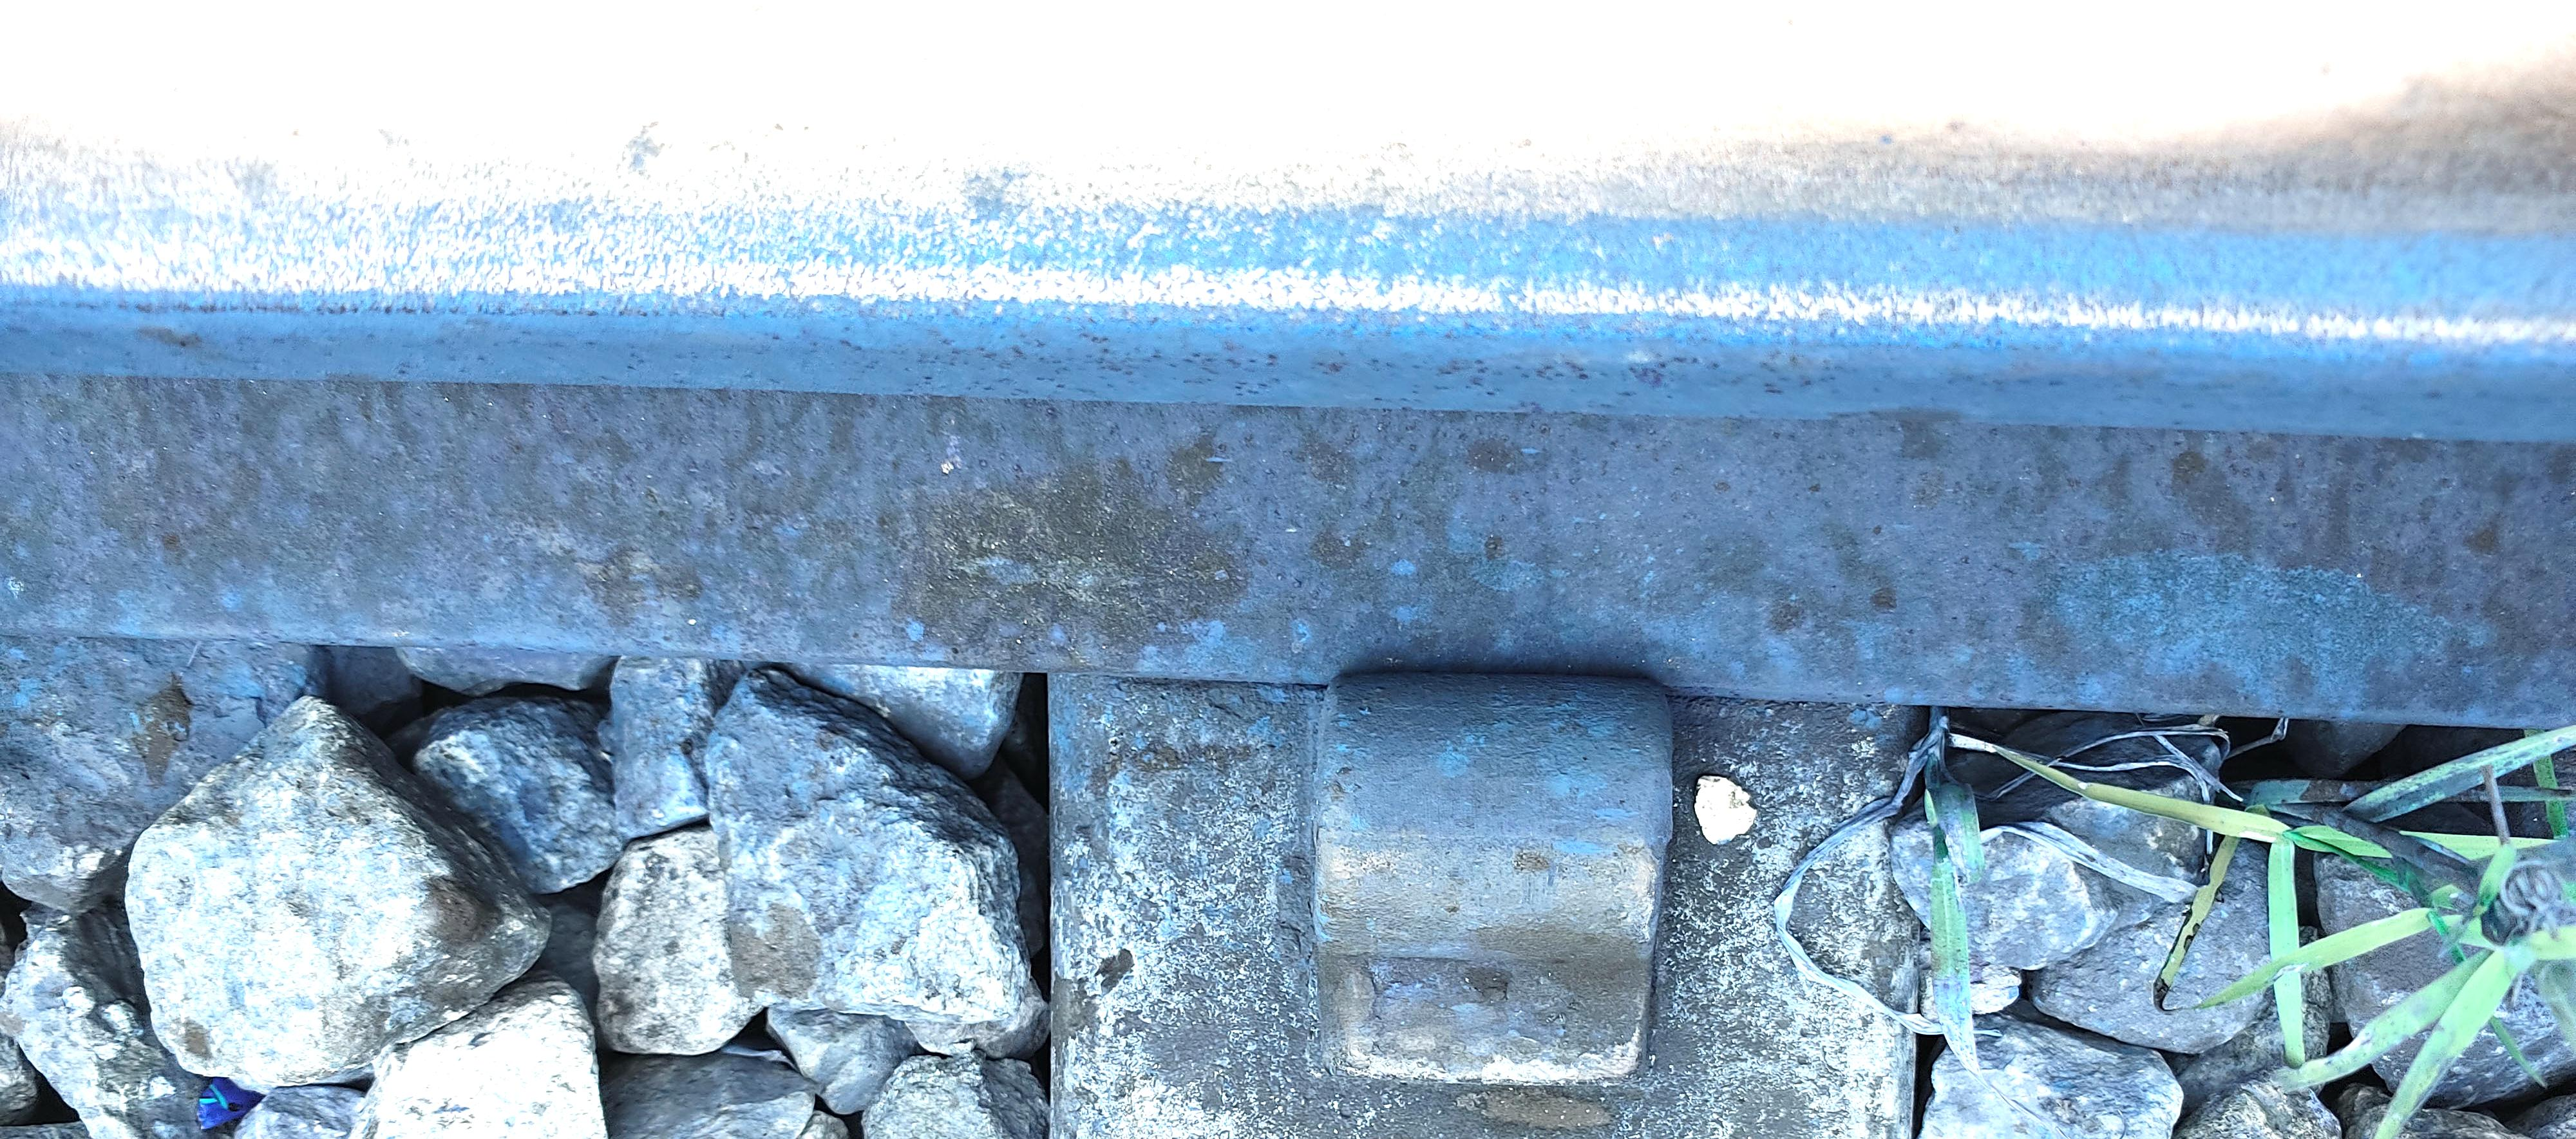error1: (1263, 600, 1750, 1096)
